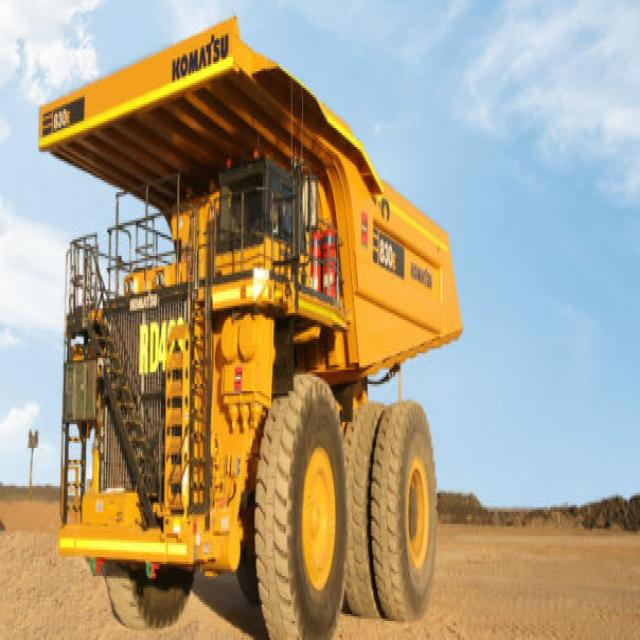dump_truck: (39, 28, 449, 633)
